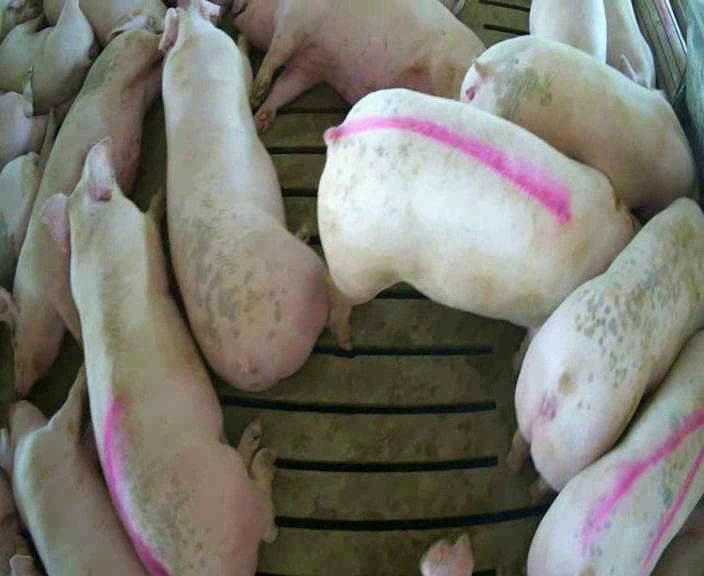pig: (42, 143, 274, 573), (318, 90, 635, 376), (160, 0, 327, 390), (0, 29, 160, 394), (509, 200, 703, 495), (527, 330, 703, 574), (461, 36, 694, 220), (231, 2, 483, 130), (0, 2, 95, 113), (529, 1, 606, 62), (604, 2, 654, 87)
